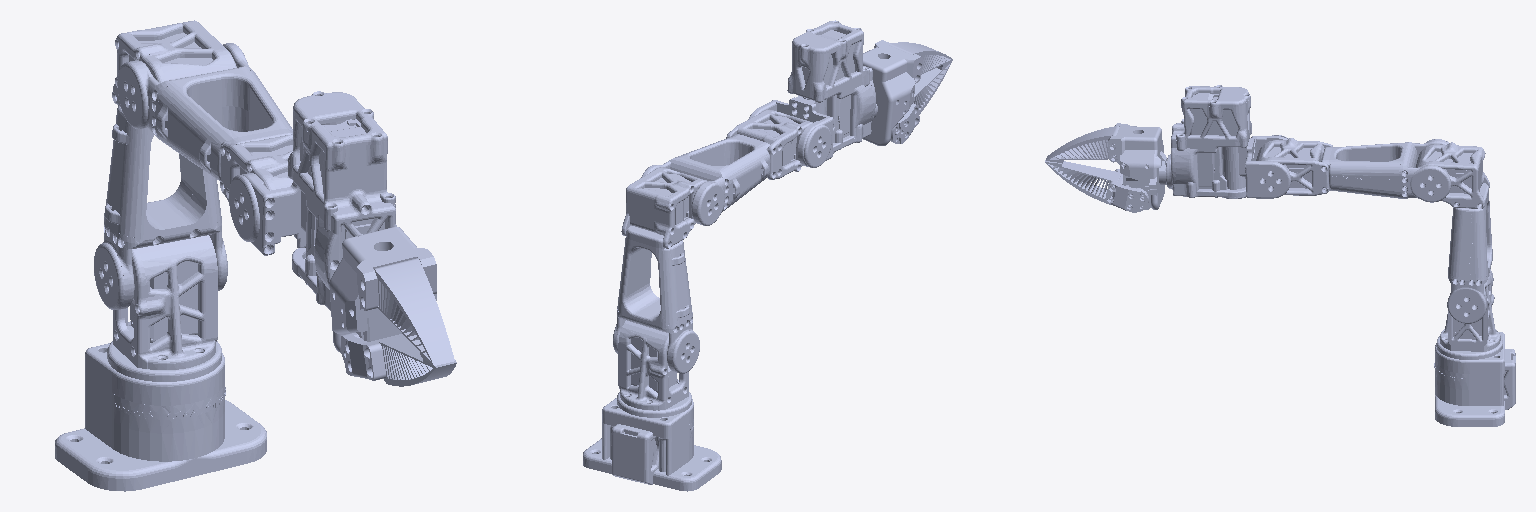
URDF robot description (so_arm):
<?xml version="1.0" encoding="utf-8"?>
<!-- This URDF was automatically created by SolidWorks to URDF Exporter! Originally created by Stephen Brawner (brawner@gmail.com) 
     Commit Version: 1.6.0-4-g7f85cfe  Build Version: 1.6.7995.38578
     For more information, please see http://wiki.ros.org/sw_urdf_exporter -->
<robot
  name="so_arm">
  <link
    name="base_link">
    <inertial>
      <origin
        xyz="-5.4461E-08 0.0042709 0.021249"
        rpy="0 0 0" />
      <mass
        value="0.15644" />
      <inertia
        ixx="6.3447E-05"
        ixy="7.3298E-11"
        ixz="1.3366E-10"
        iyy="8.3569E-05"
        iyz="-8.0284E-07"
        izz="0.00011368" />
    </inertial>
    <visual>
      <origin
        xyz="0 0 0"
        rpy="0 0 0" />
      <geometry>
        <mesh
          filename="package://so_arm/meshes/base_link.STL" />
      </geometry>
      <material
        name="">
        <color
          rgba="0.79216 0.81961 0.93333 1" />
      </material>
    </visual>
    <collision>
      <origin
        xyz="0 0 0"
        rpy="0 0 0" />
      <geometry>
        <mesh
          filename="package://so_arm/meshes/base_link.STL" />
      </geometry>
    </collision>
  </link>
  <link
    name="link1">
    <inertial>
      <origin
        xyz="0.00077888 0.00019799 0.023144"
        rpy="0 0 0" />
      <mass
        value="0.093673" />
      <inertia
        ixx="3.2621E-05"
        ixy="-1.4665E-11"
        ixz="-3.5892E-07"
        iyy="3.3211E-05"
        iyz="-2.9572E-11"
        izz="2.2848E-05" />
    </inertial>
    <visual>
      <origin
        xyz="0 0 0"
        rpy="0 0 0" />
      <geometry>
        <mesh
          filename="package://so_arm/meshes/link1.STL" />
      </geometry>
      <material
        name="">
        <color
          rgba="0.79216 0.81961 0.93333 1" />
      </material>
    </visual>
    <collision>
      <origin
        xyz="0 0 0"
        rpy="0 0 0" />
      <geometry>
        <mesh
          filename="package://so_arm/meshes/link1.STL" />
      </geometry>
    </collision>
  </link>
  <joint
    name="joint1"
    type="revolute">
    <origin
      xyz="0 0 0.056"
      rpy="0 0 -0.10571" />
    <parent
      link="base_link" />
    <child
      link="link1" />
    <axis
      xyz="0 0 -1" />
    <limit
      lower="-1.74"
      upper="1.74"
      effort="50"
      velocity="10" />
  </joint>
  <link
    name="link2">
    <inertial>
      <origin
        xyz="0.00056959 -0.0084736 0.075645"
        rpy="0 0 0" />
      <mass
        value="0.13807" />
      <inertia
        ixx="6.4279E-05"
        ixy="-2.3497E-07"
        ixz="2.6936E-07"
        iyy="6.9152E-05"
        iyz="6.1536E-07"
        izz="4.1827E-05" />
    </inertial>
    <visual>
      <origin
        xyz="0 0 0"
        rpy="0 0 0" />
      <geometry>
        <mesh
          filename="package://so_arm/meshes/link2.STL" />
      </geometry>
      <material
        name="">
        <color
          rgba="0.79216 0.81961 0.93333 1" />
      </material>
    </visual>
    <collision>
      <origin
        xyz="0 0 0"
        rpy="0 0 0" />
      <geometry>
        <mesh
          filename="package://so_arm/meshes/link2.STL" />
      </geometry>
    </collision>
  </link>
  <joint
    name="joint2"
    type="revolute">
    <origin
      xyz="-0.0020205 0.00025 0.0468"
      rpy="-0.0095042 0 0" />
    <parent
      link="link1" />
    <child
      link="link2" />
    <axis
      xyz="-1 0 0" />
    <limit
      lower="-1.74"
      upper="1.74"
      effort="50"
      velocity="10" />
  </joint>
  <link
    name="link3">
    <inertial>
      <origin
        xyz="0.001065 -0.081214 3.7827E-05"
        rpy="0 0 0" />
      <mass
        value="0.13814" />
      <inertia
        ixx="6.4804E-05"
        ixy="-4.3334E-07"
        ixz="1.3913E-09"
        iyy="3.0399E-05"
        iyz="-2.7931E-08"
        izz="8.1111E-05" />
    </inertial>
    <visual>
      <origin
        xyz="0 0 0"
        rpy="0 0 0" />
      <geometry>
        <mesh
          filename="package://so_arm/meshes/link3.STL" />
      </geometry>
      <material
        name="">
        <color
          rgba="0.79216 0.81961 0.93333 1" />
      </material>
    </visual>
    <collision>
      <origin
        xyz="0 0 0"
        rpy="0 0 0" />
      <geometry>
        <mesh
          filename="package://so_arm/meshes/link3.STL" />
      </geometry>
    </collision>
  </link>
  <joint
    name="joint3"
    type="revolute">
    <origin
      xyz="-0.0012705 -0.031816 0.1122"
      rpy="0.033075 0 0" />
    <parent
      link="link2" />
    <child
      link="link3" />
    <axis
      xyz="-1 0 0" />
    <limit
      lower="-1.74"
      upper="1.74"
      effort="50"
      velocity="10" />
  </joint>
  <link
    name="link4">
    <inertial>
      <origin
        xyz="0.0014499 -0.019219 0.0020305"
        rpy="0 0 0" />
      <mass
        value="0.036387" />
      <inertia
        ixx="4.3271E-06"
        ixy="4.8146E-09"
        ixz="5.6119E-08"
        iyy="5.3274E-06"
        iyz="-4.705E-08"
        izz="4.0371E-06" />
    </inertial>
    <visual>
      <origin
        xyz="0 0 0"
        rpy="0 0 0" />
      <geometry>
        <mesh
          filename="package://so_arm/meshes/link4.STL" />
      </geometry>
      <material
        name="">
        <color
          rgba="0.79216 0.81961 0.93333 1" />
      </material>
    </visual>
    <collision>
      <origin
        xyz="0 0 0"
        rpy="0 0 0" />
      <geometry>
        <mesh
          filename="package://so_arm/meshes/link4.STL" />
      </geometry>
    </collision>
  </link>
  <joint
    name="joint4"
    type="revolute">
    <origin
      xyz="0 -0.1375 -1.6154E-05"
      rpy="0.015665 0 0" />
    <parent
      link="link3" />
    <child
      link="link4" />
    <axis
      xyz="-1 0 0" />
    <limit
      lower="-1.74"
      upper="1.74"
      effort="50"
      velocity="10" />
  </joint>
  <link
    name="link5">
    <inertial>
      <origin
        xyz="1.0228E-07 -0.022353 0.018403"
        rpy="0 0 0" />
      <mass
        value="0.13165" />
      <inertia
        ixx="4.3172E-05"
        ixy="7.6961E-11"
        ixz="2.7003E-10"
        iyy="2.9515E-05"
        iyz="-1.4753E-06"
        izz="3.7152E-05" />
    </inertial>
    <visual>
      <origin
        xyz="0 0 0"
        rpy="0 0 0" />
      <geometry>
        <mesh
          filename="package://so_arm/meshes/link5.STL" />
      </geometry>
      <material
        name="">
        <color
          rgba="0.79216 0.81961 0.93333 1" />
      </material>
    </visual>
    <collision>
      <origin
        xyz="0 0 0"
        rpy="0 0 0" />
      <geometry>
        <mesh
          filename="package://so_arm/meshes/link5.STL" />
      </geometry>
    </collision>
  </link>
  <joint
    name="joint5"
    type="revolute">
    <origin
      xyz="0.00125 -0.0345 0.00475"
      rpy="0 0 -0.037806" />
    <parent
      link="link4" />
    <child
      link="link5" />
    <axis
      xyz="0 0 -1" />
    <limit
      lower="-1.74"
      upper="1.74"
      effort="50"
      velocity="10" />
  </joint>
  <link
    name="link6">
    <inertial>
      <origin
        xyz="-0.00030679 -0.034514 0.0057174"
        rpy="0 0 0" />
      <mass
        value="0.092788" />
      <inertia
        ixx="2.9205E-05"
        ixy="-2.0679E-07"
        ixz="-4.8816E-07"
        iyy="3.0177E-05"
        iyz="3.7929E-06"
        izz="2.2464E-05" />
    </inertial>
    <visual>
      <origin
        xyz="0 0 0"
        rpy="0 0 0" />
      <geometry>
        <mesh
          filename="package://so_arm/meshes/link6.STL" />
      </geometry>
      <material
        name="">
        <color
          rgba="0.79216 0.81961 0.93333 1" />
      </material>
    </visual>
    <collision>
      <origin
        xyz="0 0 0"
        rpy="0 0 0" />
      <geometry>
        <mesh
          filename="package://so_arm/meshes/link6.STL" />
      </geometry>
    </collision>
  </link>
  <joint
    name="joint6"
    type="revolute">
    <origin
      xyz="0 -0.0488 -0.01045"
      rpy="0.00037206 -0.083067 -0.0056111" />
    <parent
      link="link5" />
    <child
      link="link6" />
    <axis
      xyz="0.0055918 -0.99998 -9.3512E-05" />
    <limit
      lower="-1.74"
      upper="1.74"
      effort="50"
      velocity="10" />
  </joint>
  <link
    name="link7">
    <inertial>
      <origin
        xyz="0.00055642 0.0047804 0.02701"
        rpy="0 0 0" />
      <mass
        value="0.018906" />
      <inertia
        ixx="4.0825E-06"
        ixy="7.4943E-09"
        ixz="3.64E-08"
        iyy="6.0638E-06"
        iyz="-8.3224E-07"
        izz="3.7828E-06" />
    </inertial>
    <visual>
      <origin
        xyz="0 0 0"
        rpy="0 0 0" />
      <geometry>
        <mesh
          filename="package://so_arm/meshes/link7.STL" />
      </geometry>
      <material
        name="">
        <color
          rgba="0.79216 0.81961 0.93333 1" />
      </material>
    </visual>
    <collision>
      <origin
        xyz="0 0 0"
        rpy="0 0 0" />
      <geometry>
        <mesh
          filename="package://so_arm/meshes/link7.STL" />
      </geometry>
    </collision>
  </link>
  <joint
    name="joint7"
    type="revolute">
    <origin
      xyz="-6.7507E-05 -0.033189 -0.020059"
      rpy="1.5316 0 0.0055918" />
    <parent
      link="link6" />
    <child
      link="link7" />
    <axis
      xyz="-1 0 0" />
    <limit
      lower="-1.74"
      upper="0.5"
      effort="50"
      velocity="10" />
  </joint>
</robot>

--- What the picture shows (computed from the rendered views, not written in the file) ---
The picture shows the robot from 3 angles, left to right: view 1: azimuth 30°, elevation 25°; view 2: azimuth 150°, elevation 25°; view 3: azimuth 270°, elevation 25°; orthographic projection.
Model so_arm with 8 links and 7 joints (7 revolute), rooted at base_link, posed all joints at 0.
Links seen in each view (by area): view 1: base_link, link2, link3, link5, link1, link6, link4, link7; view 2: link2, link3, base_link, link5, link1, link6, link4, link7; view 3: link3, link2, link5, base_link, link6, link4, link1, link7.
Boxes of the visible links, x1=… form: base_link: x1=55, y1=343, x2=266, y2=491; link2: x1=94, y1=20, x2=236, y2=309; link3: x1=117, y1=43, x2=292, y2=201; link5: x1=288, y1=91, x2=396, y2=310; link1: x1=107, y1=235, x2=221, y2=381; link6: x1=329, y1=227, x2=454, y2=365; link4: x1=229, y1=173, x2=311, y2=256; link7: x1=340, y1=333, x2=456, y2=386; link2: x1=613, y1=167, x2=706, y2=373; link3: x1=641, y1=109, x2=812, y2=225; base_link: x1=583, y1=398, x2=721, y2=491; link5: x1=787, y1=20, x2=875, y2=152; link1: x1=617, y1=320, x2=691, y2=417; link6: x1=863, y1=40, x2=952, y2=145; link4: x1=749, y1=96, x2=833, y2=167; link7: x1=890, y1=60, x2=952, y2=143; link3: x1=1256, y1=138, x2=1450, y2=202; link2: x1=1416, y1=142, x2=1493, y2=323; link5: x1=1166, y1=85, x2=1251, y2=198; base_link: x1=1434, y1=332, x2=1515, y2=426; link6: x1=1046, y1=123, x2=1166, y2=209; link4: x1=1222, y1=135, x2=1290, y2=198; link1: x1=1436, y1=276, x2=1502, y2=359; link7: x1=1045, y1=160, x2=1148, y2=212.
Bounding box of the posed robot: 0.1105 × 0.4021 × 0.2797 m (x, y, z).
8 mesh visuals loaded from 8 distinct referenced files (8 binary STL).
